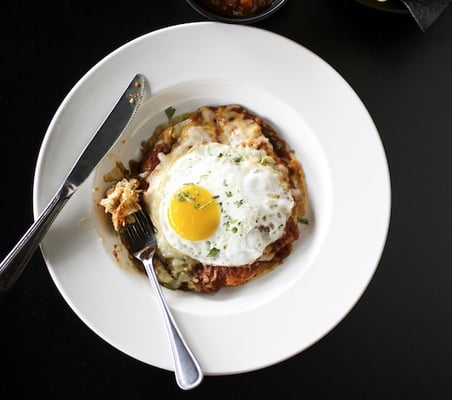burger: (120, 210, 203, 389)
sandwich: (0, 73, 151, 294)
